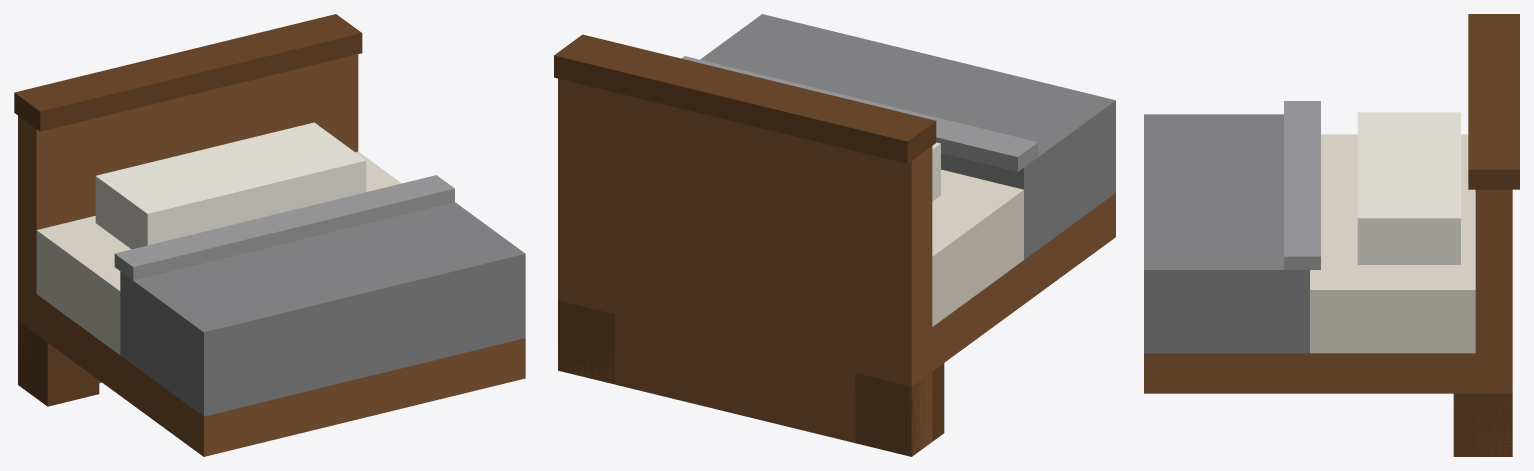
Rendered from bed_gray_head.glb.
The picture shows the model from 3 angles, left to right: view 1: azimuth 30°, elevation 25°; view 2: azimuth 150°, elevation 25°; view 3: azimuth 270°, elevation 25°; orthographic projection. The views are drawn at different scales.
Visible parts, largest first — view 1: body; view 2: body; view 3: body.
Part boxes in pixels (bbox=[...]): body: bbox=[14, 14, 525, 456]; body: bbox=[554, 14, 1115, 456]; body: bbox=[1144, 14, 1519, 456].
Size of the model in its own units: 1 by 0.86 by 1.02.
